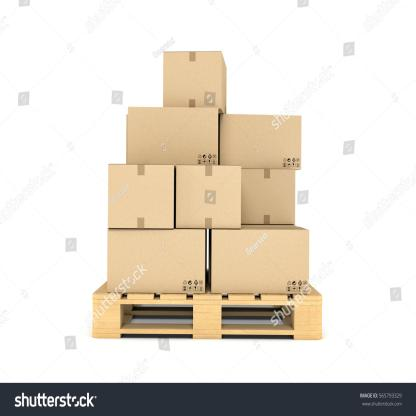box: (212, 229, 309, 294), (107, 229, 205, 293), (127, 106, 217, 165), (220, 114, 302, 170), (108, 164, 174, 228), (176, 164, 241, 228), (162, 51, 222, 109), (240, 169, 296, 224)
